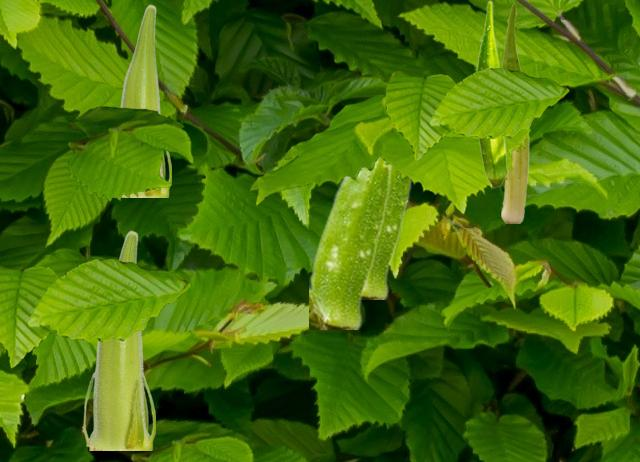okra: (81, 230, 154, 449), (309, 158, 390, 328), (120, 4, 170, 196), (363, 170, 414, 298), (475, 0, 507, 187), (501, 3, 528, 222)
